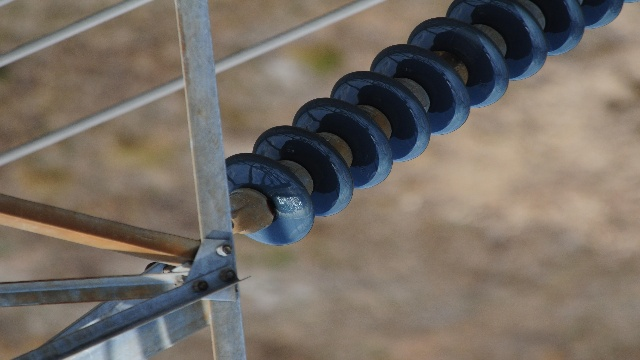insulator_unspecified: (222, 0, 621, 246)
pollution_flashover_local: (268, 182, 313, 223)
